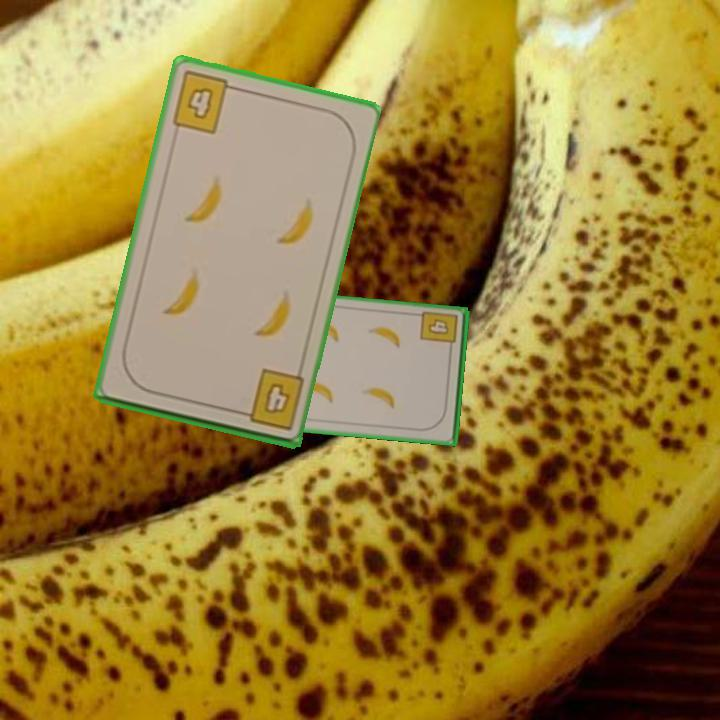4b: (168, 67, 241, 137), (233, 365, 307, 433), (417, 308, 461, 355)
